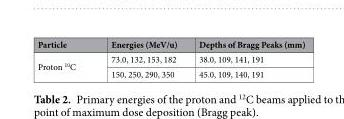table: (36, 37, 304, 79)
table column: (187, 37, 304, 79), (92, 37, 187, 79), (36, 37, 92, 79)
table column header: (36, 37, 304, 51)
table row: (36, 51, 304, 66), (36, 37, 304, 51), (36, 66, 304, 79)
table spanning cell: (36, 51, 92, 79)
